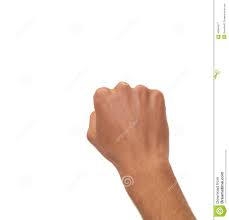fist: (79, 82, 176, 156)
